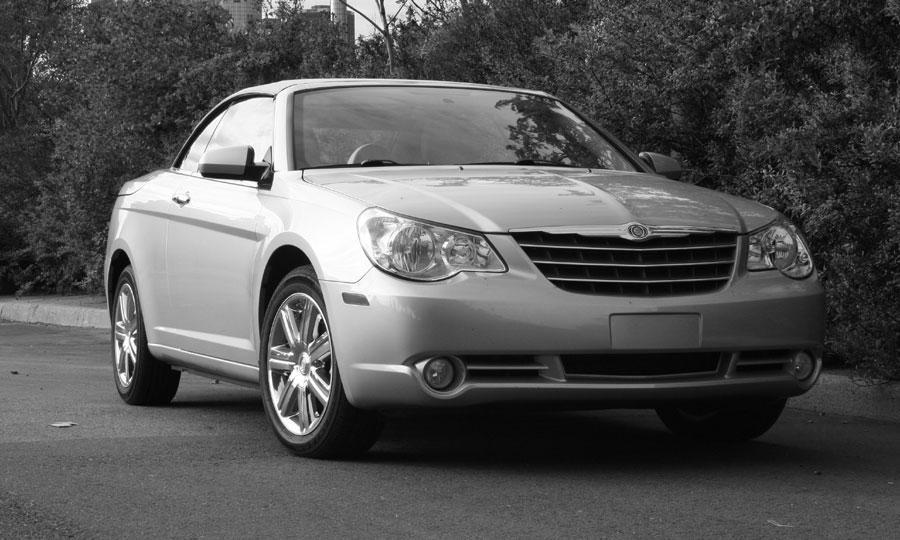car: (96, 69, 826, 464)
